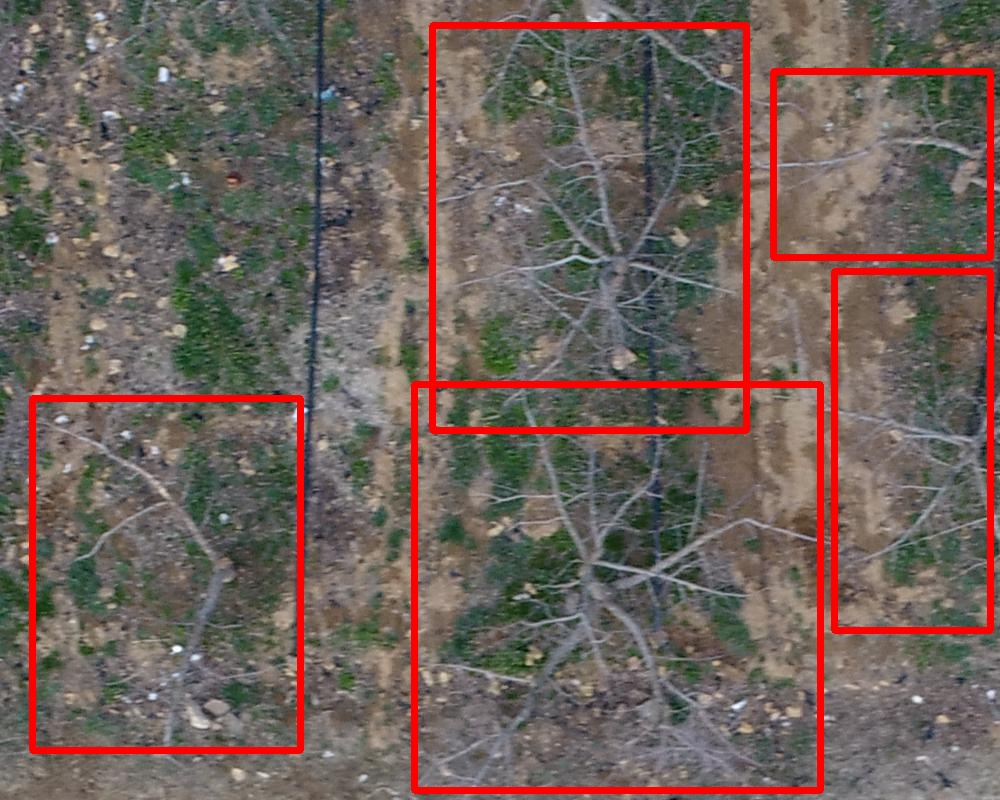apple: (414, 384, 820, 790), (432, 25, 746, 430), (32, 398, 300, 750), (834, 271, 990, 630), (773, 71, 990, 257)
